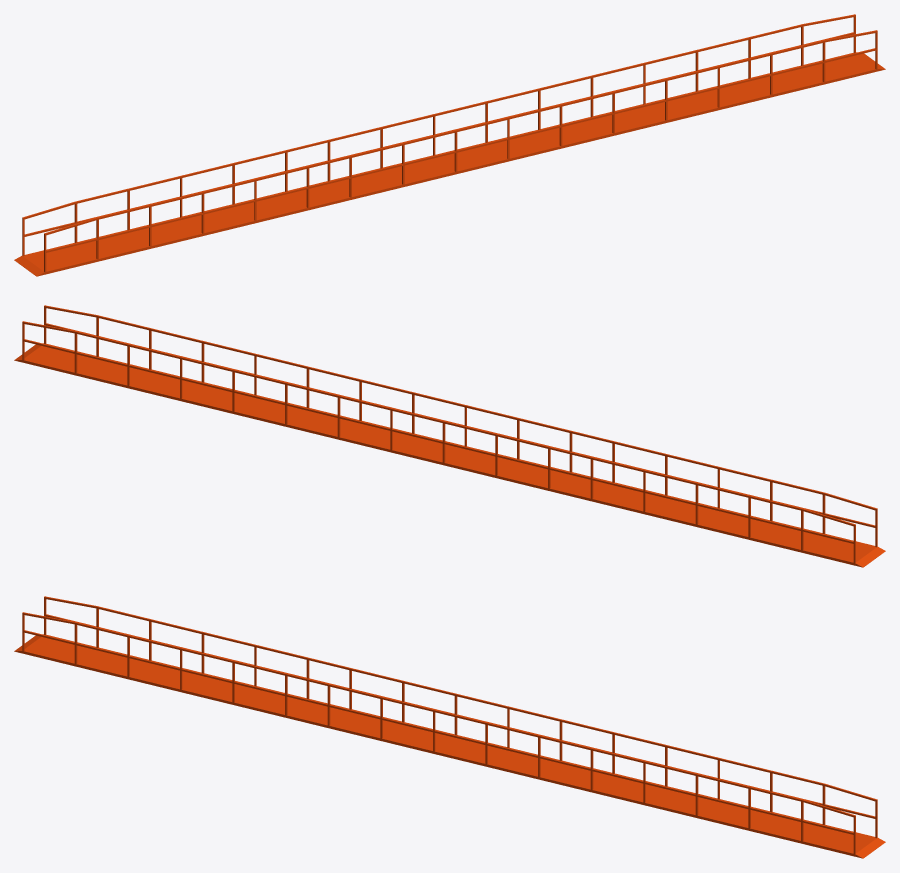
File: MezzanineBridge.fbx
The picture shows the model from 3 angles, top to bottom: view 1: azimuth 30°, elevation 25°; view 2: azimuth 150°, elevation 25°; view 3: azimuth 330°, elevation 25°; orthographic projection.
Parts seen in each view (by area): view 1: MezzanineBridge; view 2: MezzanineBridge; view 3: MezzanineBridge.
Boxes of the visible parts, bbox=[...] form: MezzanineBridge: bbox=[14, 14, 885, 276]; MezzanineBridge: bbox=[14, 305, 885, 567]; MezzanineBridge: bbox=[14, 596, 885, 858].
Size of the model in its own units: 2639 by 130 by 122.
